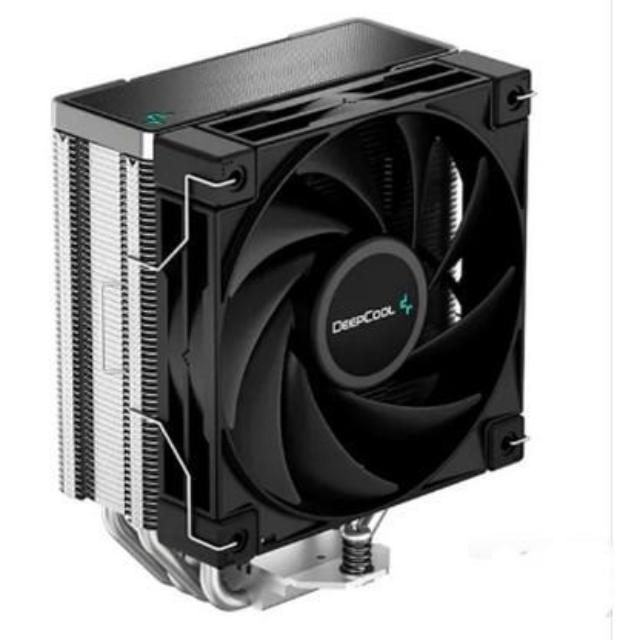CPU_Fan: (54, 20, 529, 611)
